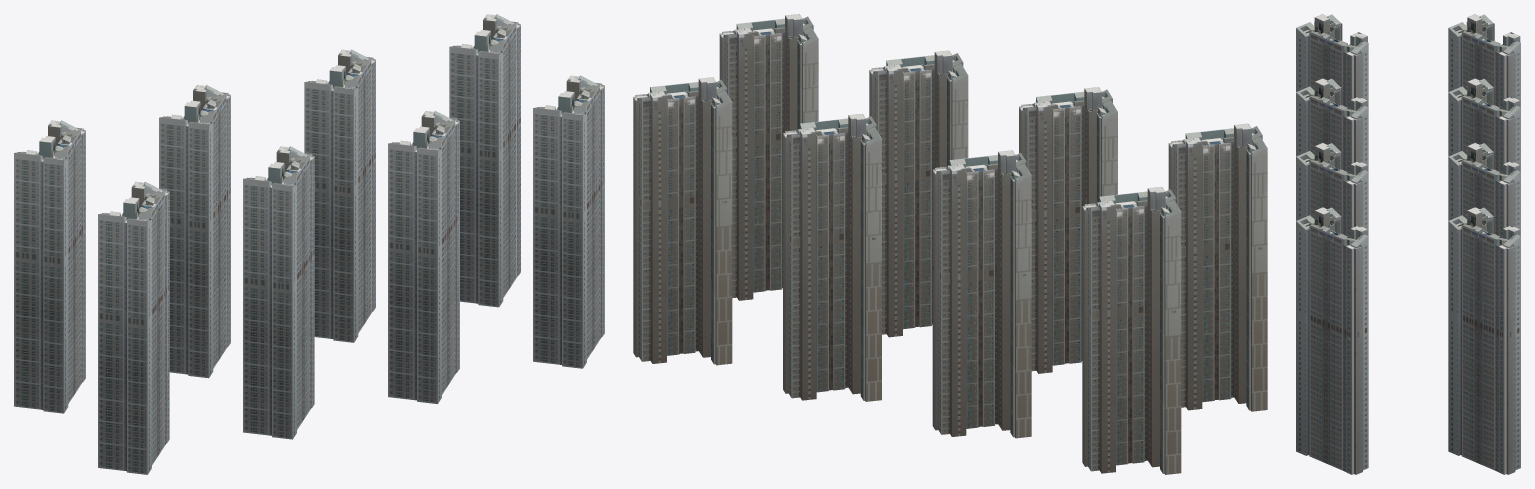
The model's file is map.glb.
3 renders of one model, left to right at view 1: azimuth 30°, elevation 25°; view 2: azimuth 150°, elevation 25°; view 3: azimuth 270°, elevation 25°, orthographic. The views are drawn at different scales.
Visible parts, largest first — view 1: APT_C.002, APT_C.001, APT_C.003, APT_C.007, APT_C, APT_C.006, APT_C.005, APT_C.004; view 2: APT_C.006, APT_C.007, APT_C.004, APT_C.005, APT_C, APT_C.001, APT_C.003, APT_C.002; view 3: APT_C.003, APT_C.004, APT_C, APT_C.002, APT_C.001, APT_C.005, APT_C.006, APT_C.007.
Boxes of the visible parts, box(x1,y1,x2,y2) form: APT_C.002: box(388, 111, 459, 404); APT_C.001: box(243, 146, 314, 439); APT_C.003: box(533, 75, 604, 368); APT_C.007: box(14, 120, 85, 413); APT_C: box(98, 181, 169, 474); APT_C.006: box(159, 85, 230, 378); APT_C.005: box(304, 49, 375, 342); APT_C.004: box(449, 14, 520, 307); APT_C.006: box(932, 150, 1031, 438); APT_C.007: box(1082, 187, 1181, 474); APT_C.004: box(633, 77, 732, 365); APT_C.005: box(783, 113, 881, 401); APT_C: box(1168, 123, 1267, 411); APT_C.001: box(1019, 87, 1117, 373); APT_C.003: box(719, 14, 818, 300); APT_C.002: box(869, 50, 968, 337); APT_C.003: box(1296, 207, 1368, 474); APT_C.004: box(1448, 207, 1520, 474); APT_C: box(1296, 14, 1368, 109); APT_C.002: box(1296, 143, 1368, 237); APT_C.001: box(1296, 78, 1368, 173); APT_C.005: box(1448, 143, 1520, 237); APT_C.006: box(1448, 78, 1520, 173); APT_C.007: box(1448, 14, 1520, 109).
Size of what is drawn, in the model's own units: 357 by 174 by 148.
Materials: 8 (8 with a texture image).
